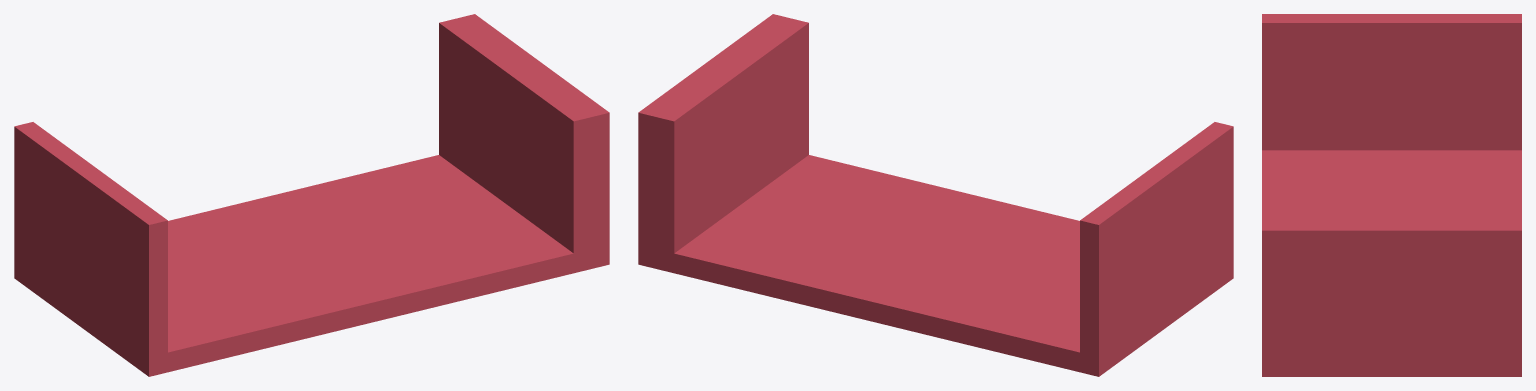
Rendered from RadiOpi Abdeckung plain Make.glb.
3 views of the same model, side by side, from view 1: azimuth 30°, elevation 25°; view 2: azimuth 150°, elevation 25°; view 3: azimuth 270°, elevation 25° (orthographic). The views are drawn at different scales.
Visible parts, largest first — view 1: Mesh_Mesh_head_geo.001_lambert2SG.001; view 2: Mesh_Mesh_head_geo.001_lambert2SG.001; view 3: Mesh_Mesh_head_geo.001_lambert2SG.001.
Boxes of the visible parts, box(x1,y1,x2,y2) form: Mesh_Mesh_head_geo.001_lambert2SG.001: box(14, 14, 609, 376); Mesh_Mesh_head_geo.001_lambert2SG.001: box(638, 14, 1233, 376); Mesh_Mesh_head_geo.001_lambert2SG.001: box(1262, 14, 1521, 376).
Bounding box in the file's own units: 73 × 23 × 37.
